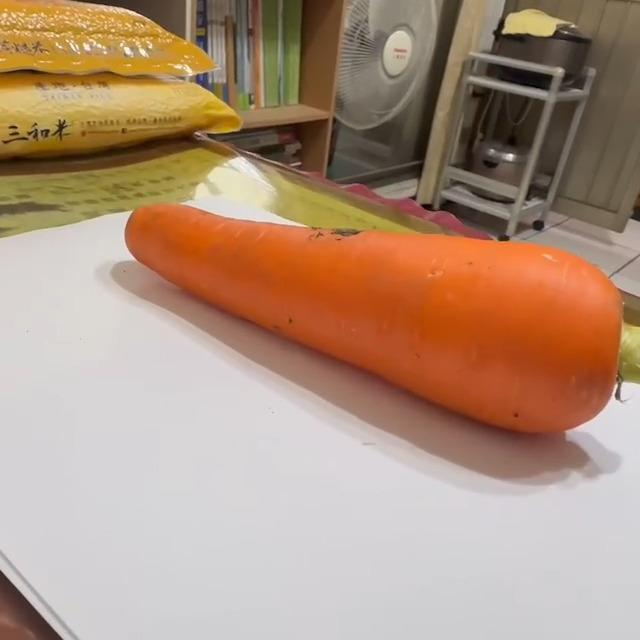carrot: (123, 199, 630, 446)
